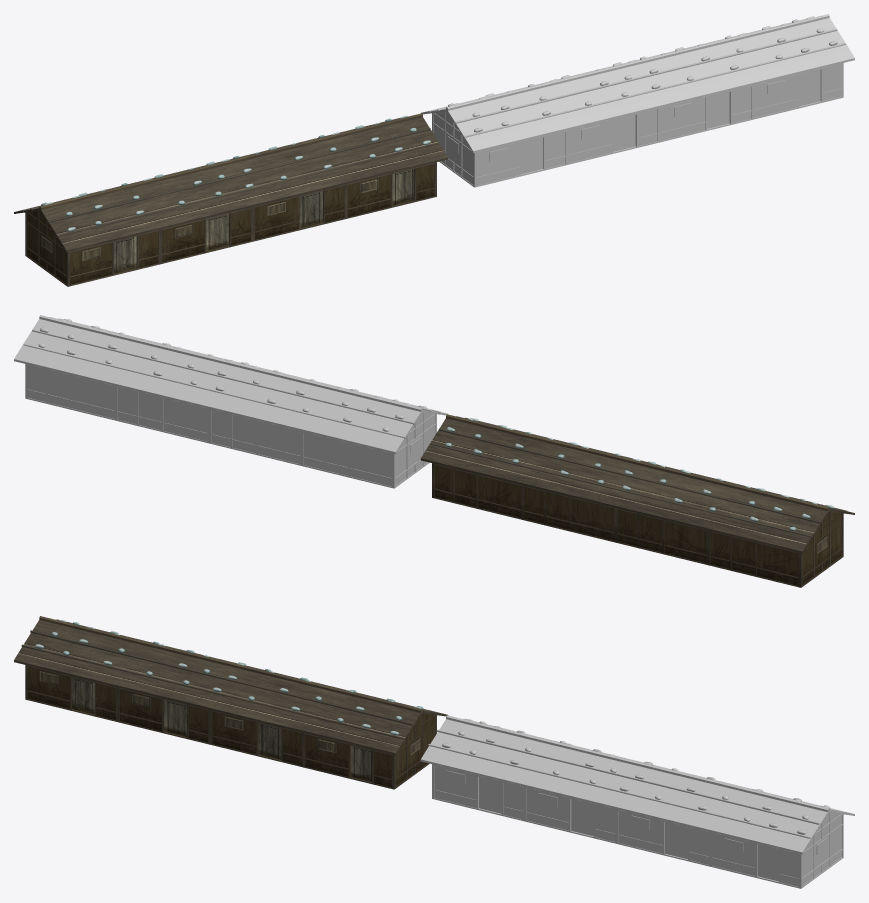
File: BgMD_Akimoto_House_2.fbx
The picture shows the model from 3 angles, top to bottom: view 1: azimuth 30°, elevation 25°; view 2: azimuth 150°, elevation 25°; view 3: azimuth 330°, elevation 25°; orthographic projection.
Parts seen in each view (by area): view 1: BgMD_Akimoto_House_2_1_01, BgMD_Akimoto_House_2_1_02; view 2: BgMD_Akimoto_House_2_1_01, BgMD_Akimoto_House_2_1_02; view 3: BgMD_Akimoto_House_2_1_02, BgMD_Akimoto_House_2_1_01.
Boxes of the visible parts, box(x1,y1,x2,y2) form: BgMD_Akimoto_House_2_1_01: box(14, 113, 448, 286); BgMD_Akimoto_House_2_1_02: box(420, 14, 854, 187); BgMD_Akimoto_House_2_1_01: box(420, 414, 854, 587); BgMD_Akimoto_House_2_1_02: box(14, 315, 448, 488); BgMD_Akimoto_House_2_1_02: box(420, 715, 854, 888); BgMD_Akimoto_House_2_1_01: box(14, 616, 448, 789).
Bounding box in the file's own units: 4275 × 344 × 492.
